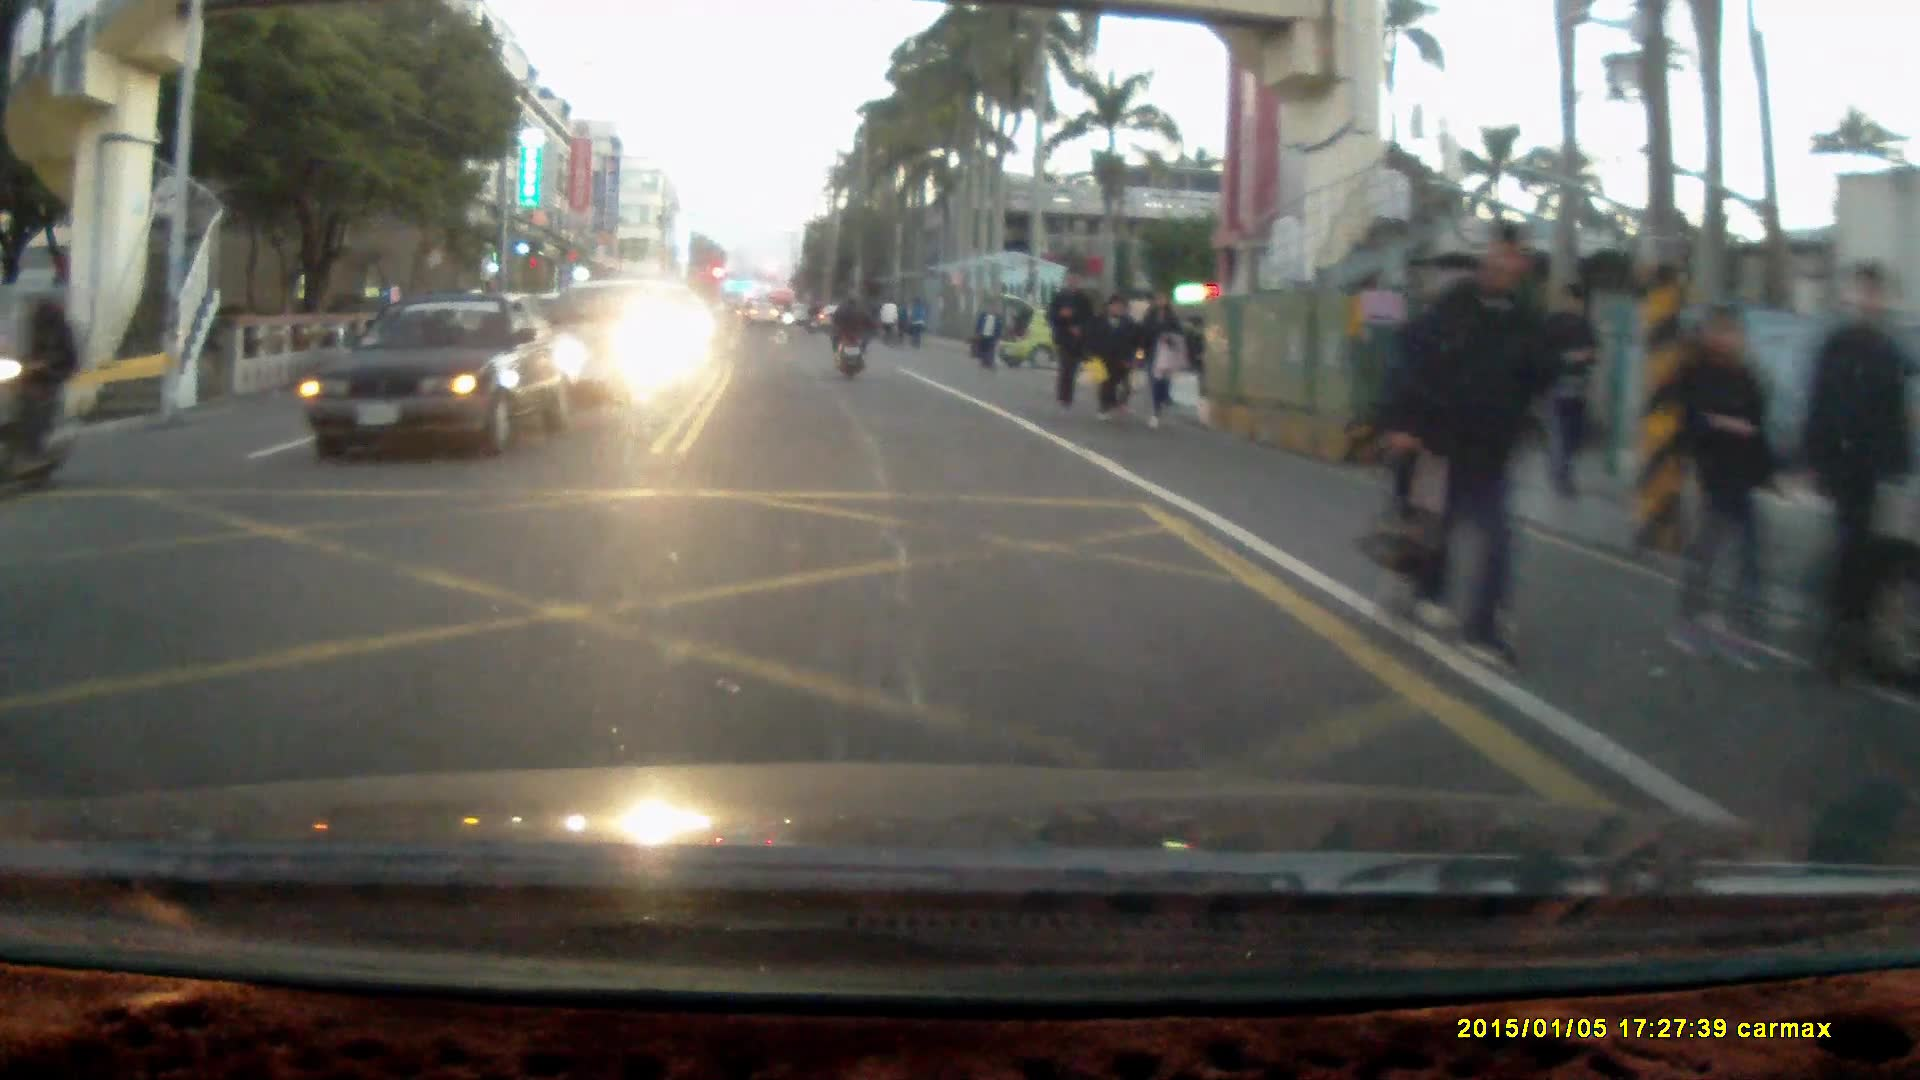pedestrian: (1395, 211, 1549, 680), (1667, 307, 1790, 682), (1799, 261, 1889, 684), (1541, 282, 1602, 504), (1044, 267, 1093, 417), (1134, 284, 1185, 425), (1089, 293, 1139, 419), (970, 299, 997, 375)
rider: (0, 276, 82, 501), (826, 287, 868, 380)
vehicle: (297, 296, 584, 458), (532, 278, 698, 404)
